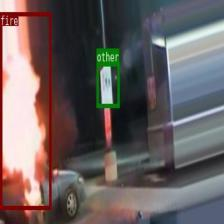fire: (0, 11, 51, 209)
